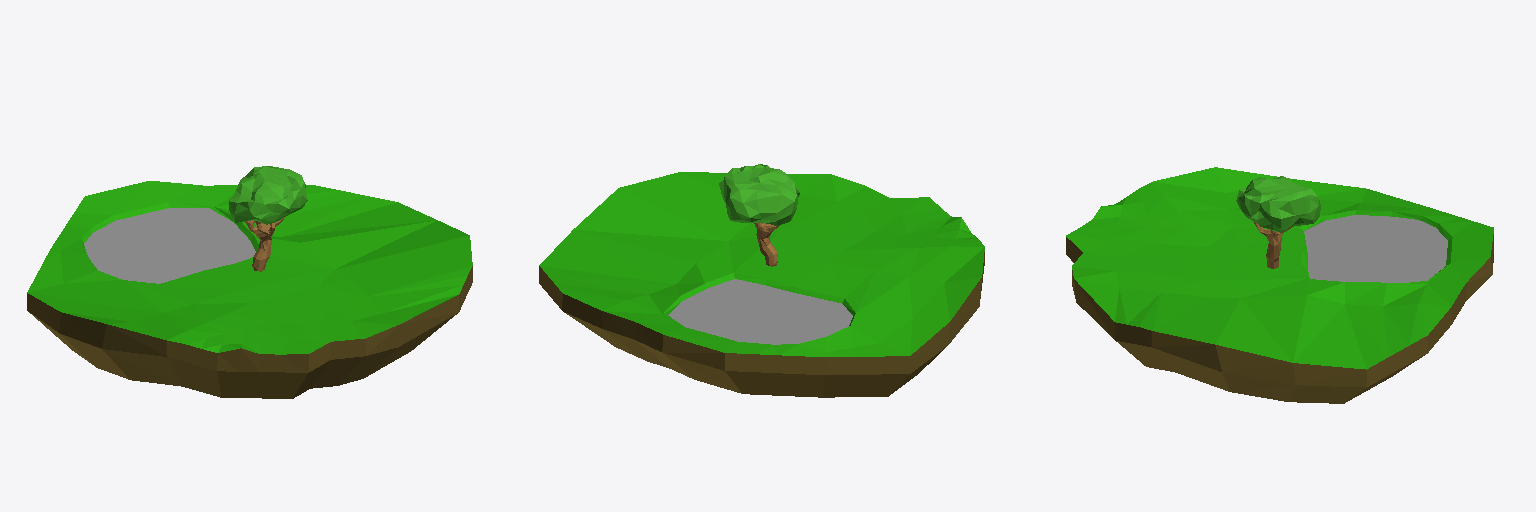
3 renders of one model, left to right at view 1: azimuth 30°, elevation 25°; view 2: azimuth 150°, elevation 25°; view 3: azimuth 270°, elevation 25°, orthographic.
Visible parts, largest first — view 1: terrain_Plane, treetop_Icosphere, treebot_Cube.001; view 2: terrain_Plane, treetop_Icosphere, treebot_Cube.001; view 3: terrain_Plane, treetop_Icosphere, treebot_Cube.001.
Part boxes in pixels (left/top/right/bottom): terrain_Plane: left=27, top=181, right=472, bottom=398; treetop_Icosphere: left=229, top=166, right=307, bottom=224; treebot_Cube.001: left=245, top=217, right=284, bottom=271; terrain_Plane: left=539, top=172, right=984, bottom=397; treetop_Icosphere: left=719, top=164, right=799, bottom=225; treebot_Cube.001: left=754, top=223, right=779, bottom=266; terrain_Plane: left=1066, top=167, right=1493, bottom=403; treetop_Icosphere: left=1236, top=176, right=1320, bottom=232; treebot_Cube.001: left=1254, top=222, right=1291, bottom=268.
Size of the model in its own units: 4.3 by 1.75 by 4.23.